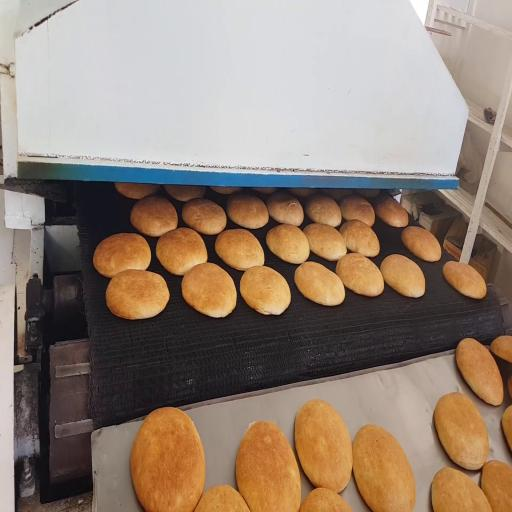bread: (131, 408, 205, 511), (236, 421, 301, 511), (353, 425, 415, 511), (295, 400, 352, 493), (434, 393, 489, 469), (456, 339, 503, 405), (106, 270, 169, 319), (182, 263, 236, 317), (431, 468, 492, 511), (93, 234, 151, 277), (240, 266, 290, 315), (156, 228, 207, 275), (295, 262, 345, 306), (336, 253, 384, 296), (215, 229, 264, 270), (380, 255, 425, 297), (131, 196, 177, 237), (266, 224, 309, 264), (443, 261, 486, 299), (304, 224, 346, 261), (182, 199, 226, 234), (481, 461, 511, 511), (340, 220, 379, 257), (227, 193, 268, 228), (195, 485, 249, 511), (402, 227, 441, 261), (267, 192, 303, 226), (300, 488, 352, 511), (306, 194, 341, 227), (339, 195, 375, 227), (375, 196, 408, 227), (115, 183, 159, 199), (164, 185, 205, 202), (491, 336, 511, 363), (502, 406, 511, 450), (323, 189, 352, 201), (290, 188, 315, 197), (211, 187, 241, 194), (357, 190, 379, 198), (253, 188, 277, 194), (508, 375, 511, 398)
